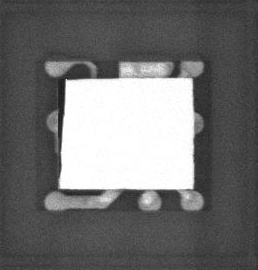DIE_BROKEN: (56, 77, 67, 177)
